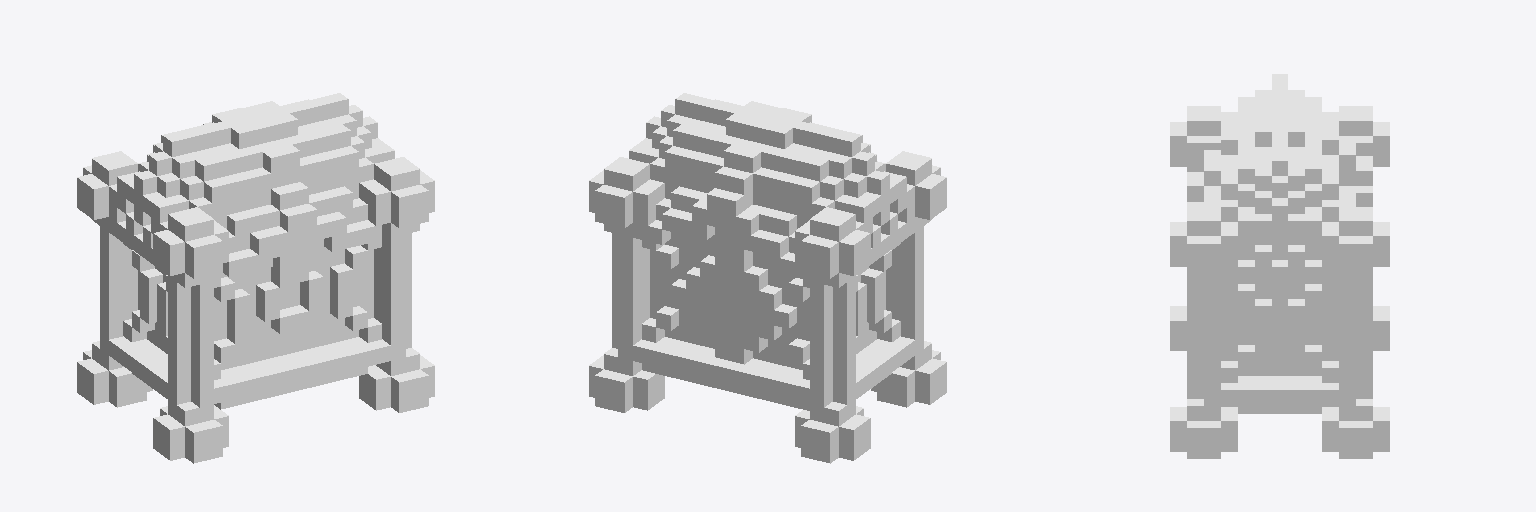
The model's file is prop_chest_mysterious_blue.obj.
3 renders of one model, left to right at view 1: azimuth 30°, elevation 25°; view 2: azimuth 150°, elevation 25°; view 3: azimuth 270°, elevation 25°, orthographic.
Visible parts, largest first — view 1: object 1; view 2: object 1; view 3: object 1.
Boxes of the visible parts, x1=… form: object 1: x1=77, y1=93, x2=434, y2=463; object 1: x1=589, y1=93, x2=946, y2=463; object 1: x1=1170, y1=74, x2=1389, y2=458.
Size of the model in its own units: 1.8 by 1.8 by 1.3.